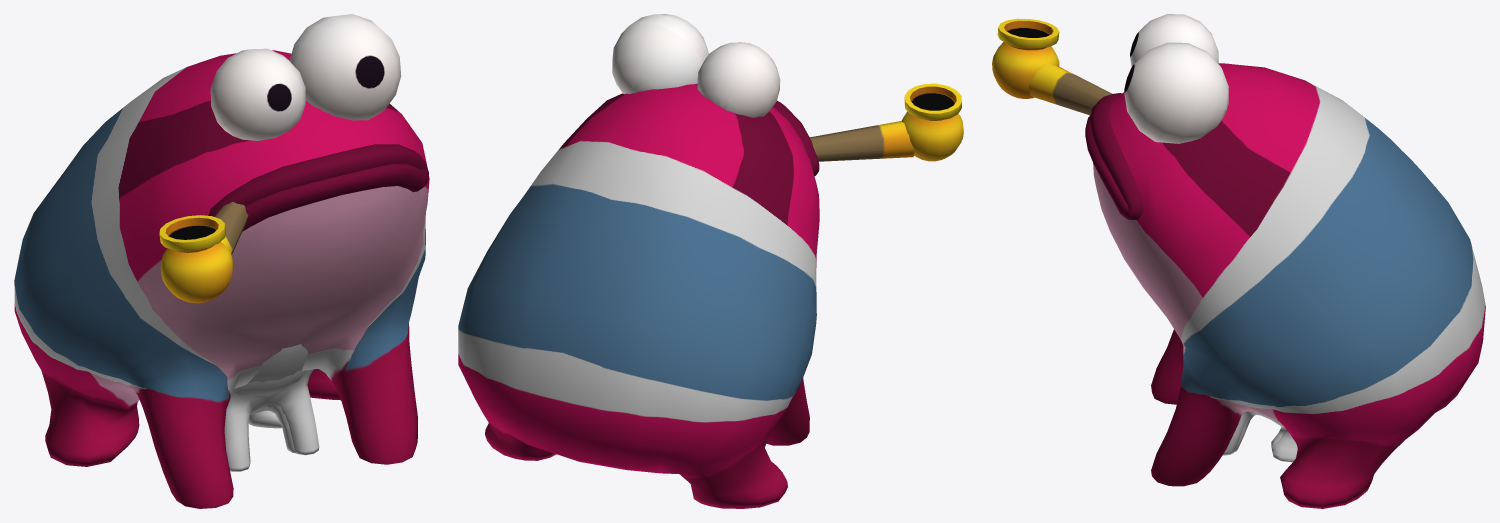
Rendered from frog (1).fbx.
3 views of the same model, side by side, from view 1: azimuth 30°, elevation 25°; view 2: azimuth 150°, elevation 25°; view 3: azimuth 270°, elevation 25° (orthographic). The views are drawn at different scales.
Parts seen in each view (by area): view 1: frog_lvl_3, frog_lvl_2, frog_lvl_1; view 2: frog_lvl_3; view 3: frog_lvl_3, frog_lvl_2.
Boxes of the visible parts, box(x1,y1,x2,y2) form: frog_lvl_3: box(14, 14, 429, 508); frog_lvl_2: box(224, 344, 319, 471); frog_lvl_1: box(235, 370, 303, 453); frog_lvl_3: box(458, 14, 963, 508); frog_lvl_3: box(992, 14, 1485, 508); frog_lvl_2: box(1222, 411, 1297, 462).
Bounding box in the file's own units: 47.03 × 51.01 × 55.71.
